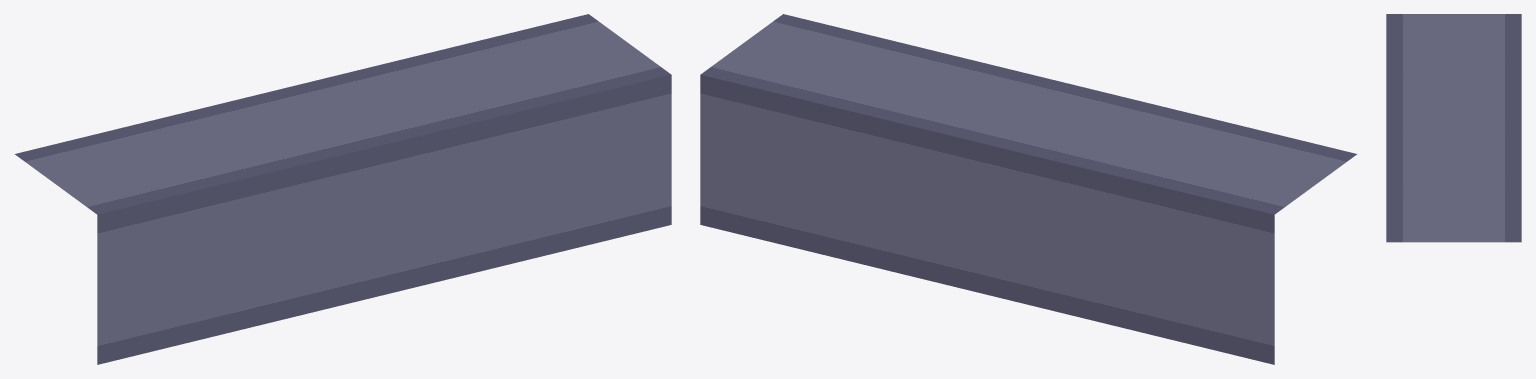
The model's file is Pipes.gltf.
3 renders of one model, left to right at view 1: azimuth 30°, elevation 25°; view 2: azimuth 150°, elevation 25°; view 3: azimuth 270°, elevation 25°, orthographic. The views are drawn at different scales.
Parts seen in each view (by area): view 1: Pipes; view 2: Pipes; view 3: Pipes.
Boxes of the visible parts, <box> form: Pipes: <box>15,14,671,364</box>; Pipes: <box>700,14,1356,364</box>; Pipes: <box>1386,14,1521,242</box>.
Size of the model in its own units: 1 by 0.25 by 0.25.
1 material, 1 textured.
